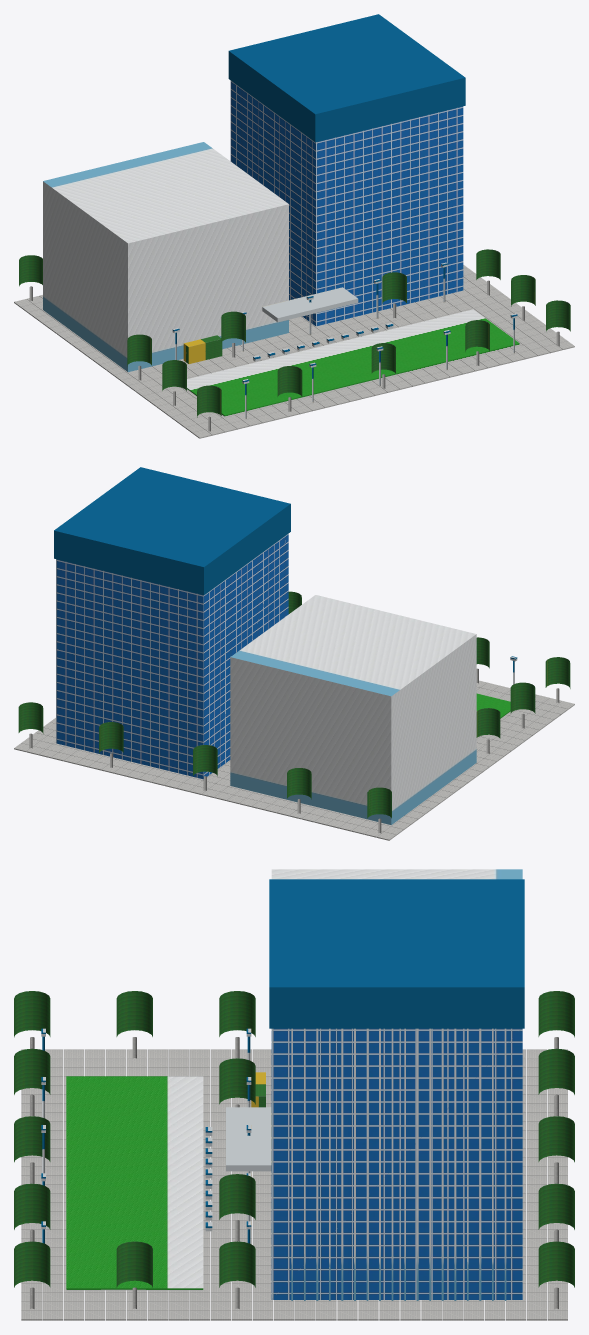
The picture shows the model from 3 angles, top to bottom: view 1: azimuth 30°, elevation 25°; view 2: azimuth 150°, elevation 25°; view 3: azimuth 270°, elevation 25°; orthographic projection. The views are drawn at different scales.
Visible parts, largest first — view 1: 28185_B37_BioNote_Songdo_RND_Center; view 2: 28185_B37_BioNote_Songdo_RND_Center; view 3: 28185_B37_BioNote_Songdo_RND_Center.
Part boxes in pixels (bbox=[...]): 28185_B37_BioNote_Songdo_RND_Center: bbox=[14, 14, 574, 438]; 28185_B37_BioNote_Songdo_RND_Center: bbox=[14, 467, 574, 840]; 28185_B37_BioNote_Songdo_RND_Center: bbox=[14, 869, 574, 1320].
Size of the model in its own units: 55.95 by 30.5 by 49.2.
1 material, 1 textured.
